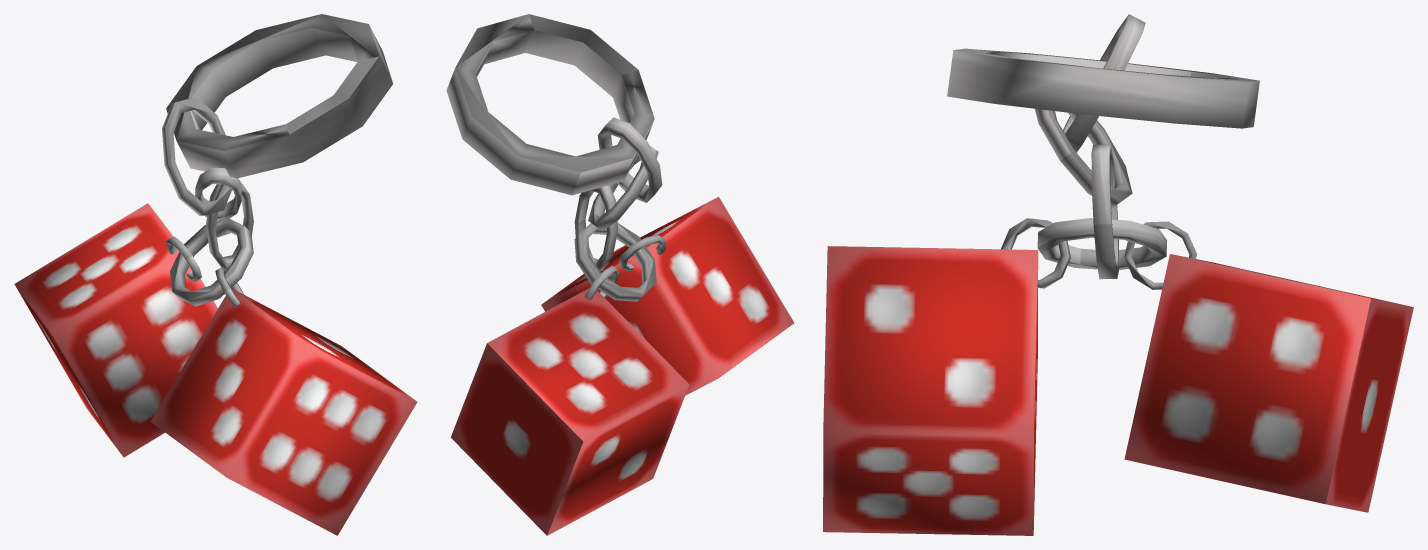
File: DiceHung.fbx
The picture shows the model from 3 angles, left to right: view 1: azimuth 30°, elevation 25°; view 2: azimuth 150°, elevation 25°; view 3: azimuth 270°, elevation 25°; orthographic projection. The views are drawn at different scales.
Visible parts, largest first — view 1: DiceChain; view 2: DiceChain; view 3: DiceChain.
Part boxes in pixels (x1,y1,x2,y2): DiceChain: (14, 14, 417, 535); DiceChain: (446, 14, 794, 535); DiceChain: (823, 14, 1413, 535).
Size of the model in its own units: 0.0388 by 0.0547 by 0.0521.
